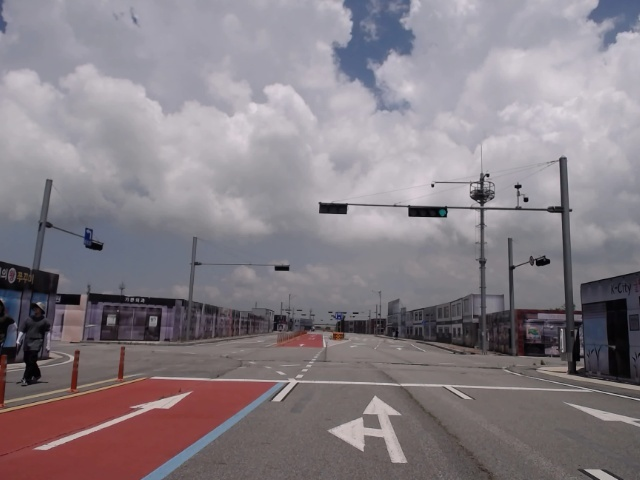straight_green_4: (407, 206, 448, 219)
